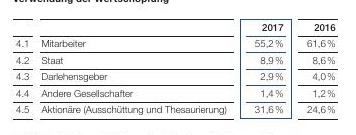table: (0, 0, 356, 135)
